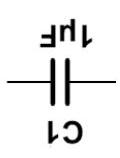Capacitor: (35, 53, 82, 108)
